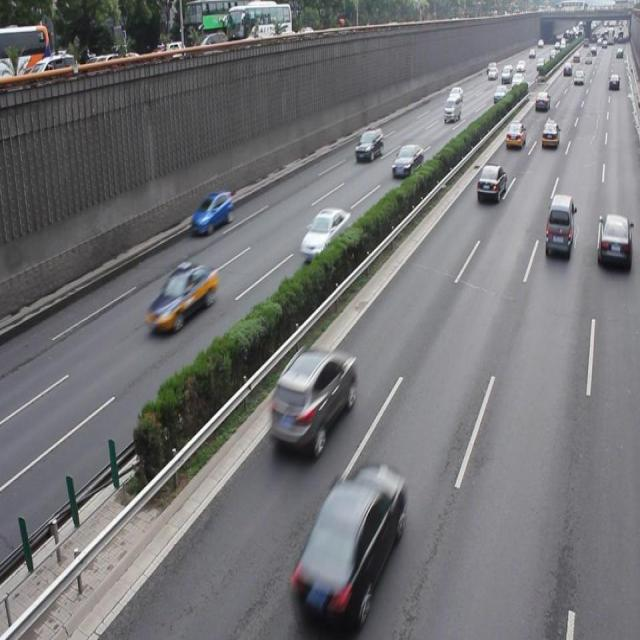car: (290, 464, 404, 615), (269, 346, 356, 453), (145, 262, 218, 332), (299, 208, 349, 258), (190, 189, 234, 235), (597, 211, 630, 271), (475, 163, 506, 204), (390, 143, 423, 178)
truck: (543, 194, 573, 259)
